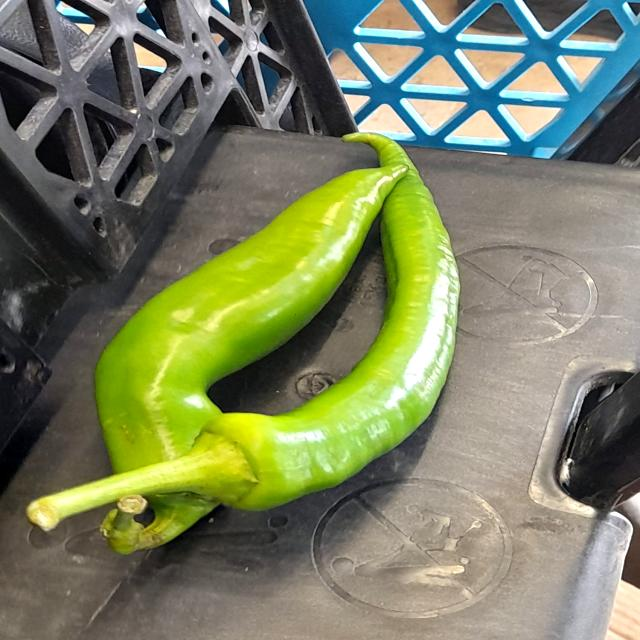green pepper: (129, 111, 471, 548), (87, 145, 421, 556)
